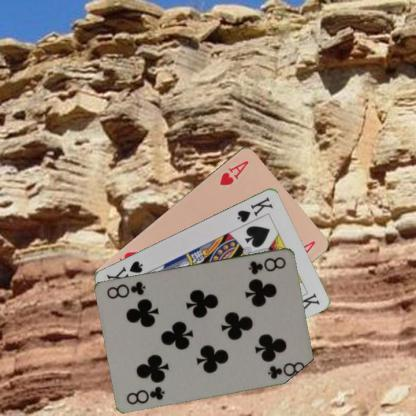8c: (124, 383, 166, 406), (246, 254, 287, 276)
Ah: (216, 158, 250, 188)
Ks: (234, 194, 274, 224)
